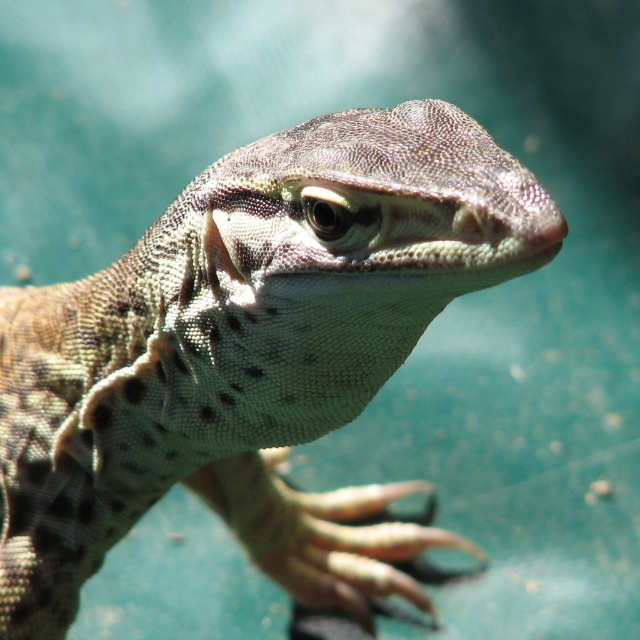Lizard: (1, 98, 566, 634)
